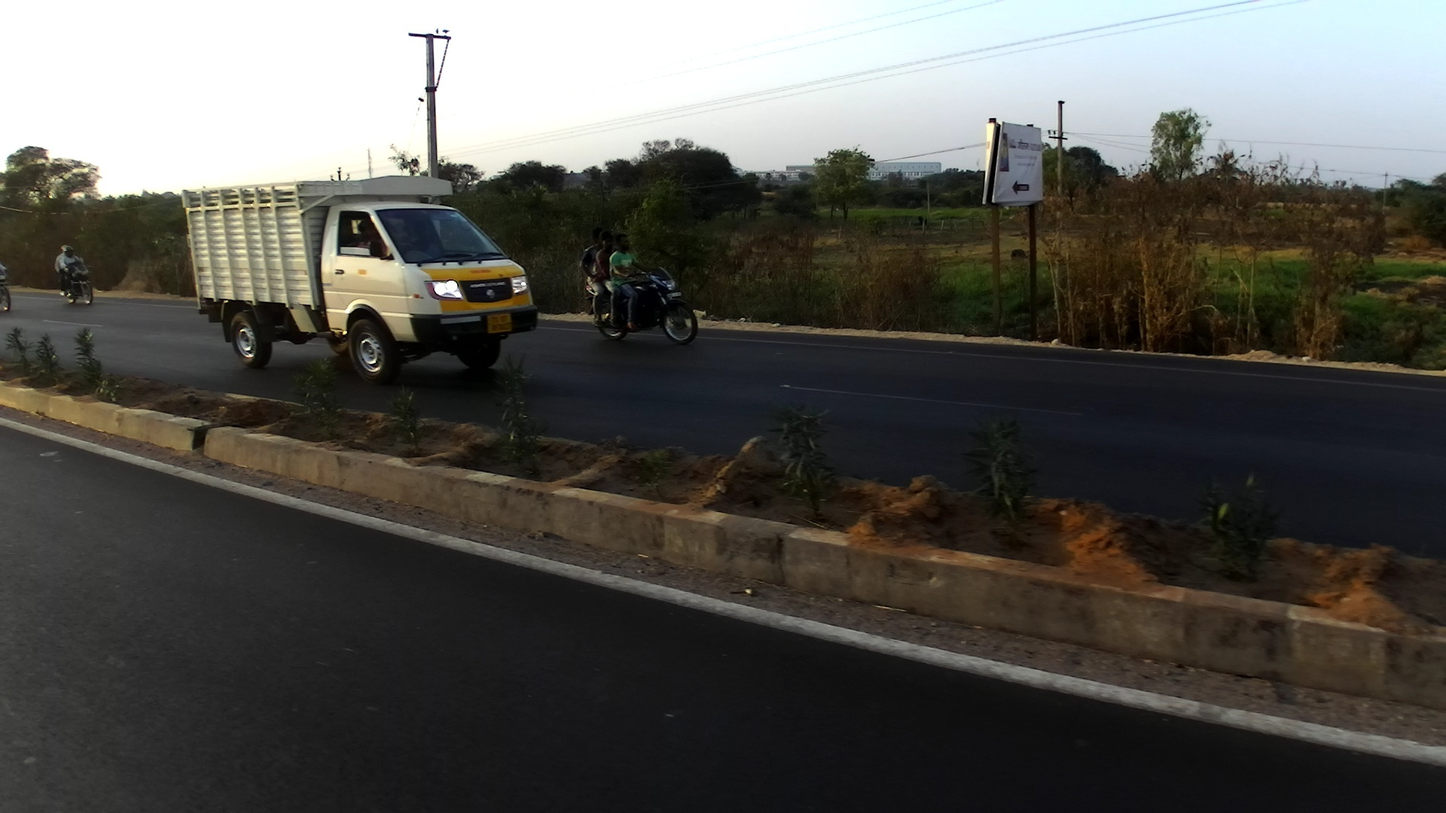motorcycle: (584, 260, 699, 348), (54, 257, 95, 306), (1, 263, 12, 314)
rider: (607, 233, 657, 332), (578, 227, 611, 324), (596, 227, 624, 326), (63, 243, 81, 296), (54, 244, 68, 295)
truck: (179, 169, 541, 383)
